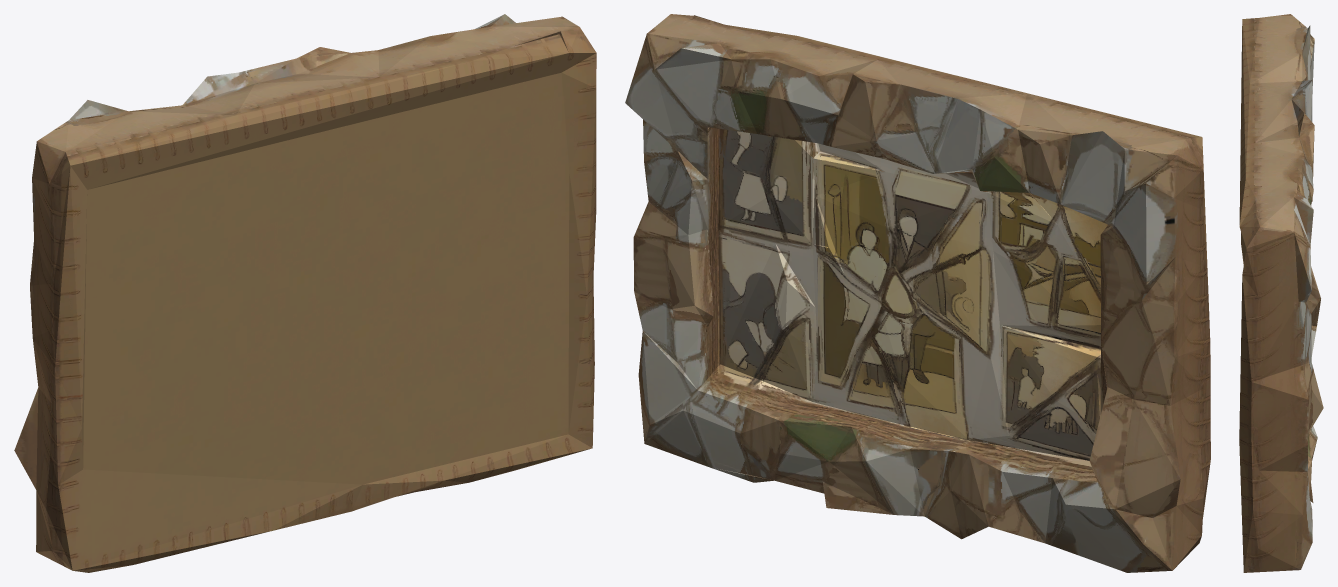
The model's file is P_PhotoFrame.obj.
3 views of the same model, side by side, from view 1: azimuth 30°, elevation 25°; view 2: azimuth 150°, elevation 25°; view 3: azimuth 270°, elevation 25° (orthographic). The views are drawn at different scales.
Bounding box in the file's own units: 1.64 × 1.27 × 0.2611.
Materials: 1 (1 with a texture image).
